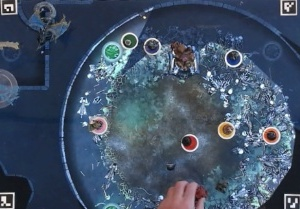blue: (225, 48, 244, 69)
green: (121, 30, 141, 51)
orange: (259, 124, 283, 149)
pink: (88, 113, 110, 137)
red: (180, 131, 202, 153)
violet: (144, 37, 164, 58)
yellow: (217, 121, 238, 140)
